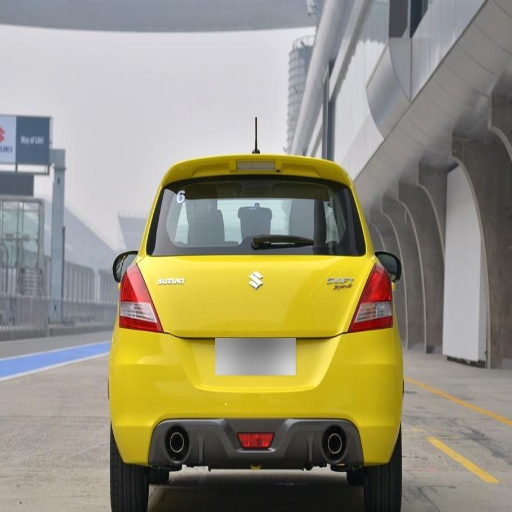back_bumper: (111, 323, 403, 469)
back_glass: (147, 177, 361, 253)
tailgate: (139, 254, 214, 340), (327, 271, 359, 334)
trunk: (149, 257, 374, 388)
